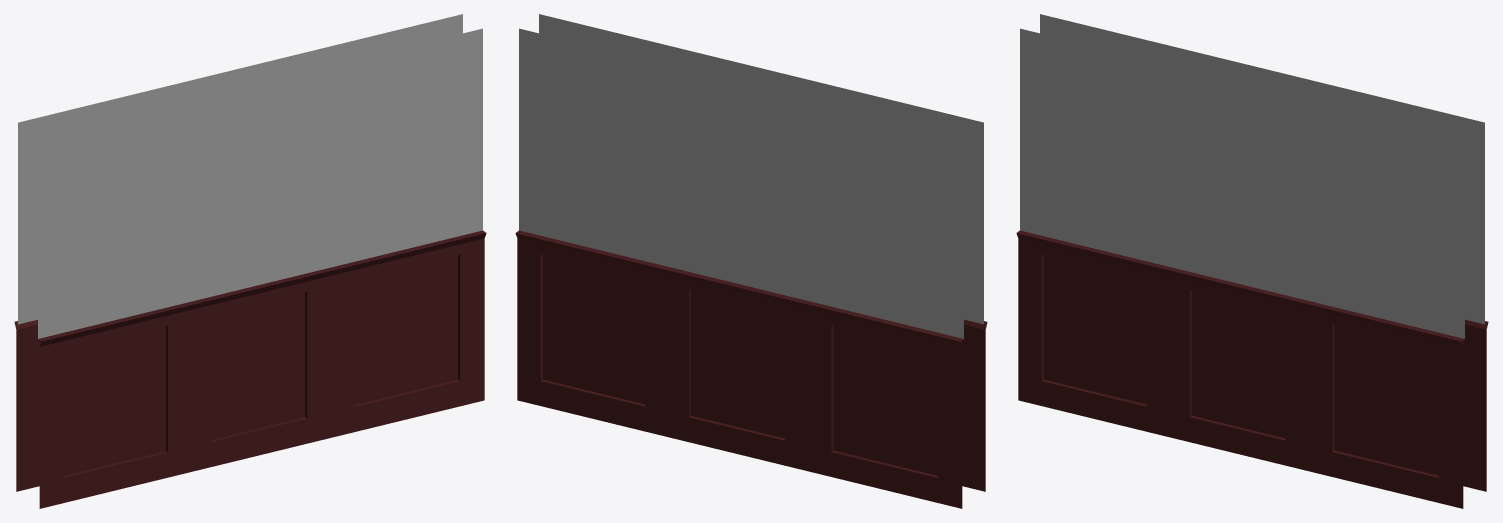
File: 2SideWall.fbx
3 views of the same model, side by side, from view 1: azimuth 30°, elevation 25°; view 2: azimuth 150°, elevation 25°; view 3: azimuth 330°, elevation 25° (orthographic).
Visible parts, largest first — view 1: polySurface51; view 2: polySurface51; view 3: polySurface51.
Part boxes in pixels (x1,y1,x2,y2): polySurface51: [14, 14, 486, 508]; polySurface51: [515, 14, 987, 508]; polySurface51: [1016, 14, 1488, 508].
Size of the model in its own units: 4 by 3.18 by 0.4225.
